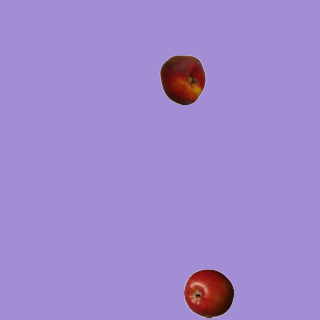Apple Braeburn: (183, 268, 233, 318)
Nectarine Flat: (157, 54, 207, 104)
